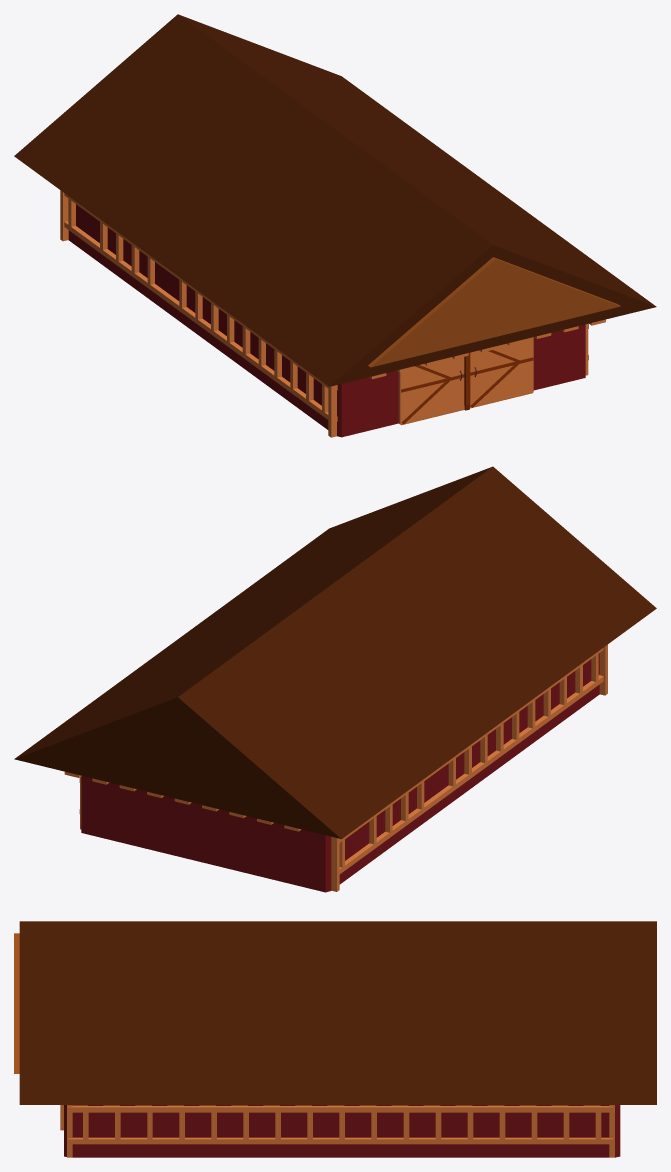
The model's file is MedievalBarn.fbx.
3 renders of one model, top to bottom at view 1: azimuth 30°, elevation 25°; view 2: azimuth 150°, elevation 25°; view 3: azimuth 270°, elevation 25°, orthographic.
Visible parts, largest first — view 1: MedievalBarn; view 2: MedievalBarn; view 3: MedievalBarn.
Part boxes in pixels (x1,y1,x2,y2): MedievalBarn: (14, 14, 656, 437); MedievalBarn: (14, 466, 656, 892); MedievalBarn: (14, 921, 656, 1157).
Bounding box in the file's own units: 2388 × 1238 × 4013.
